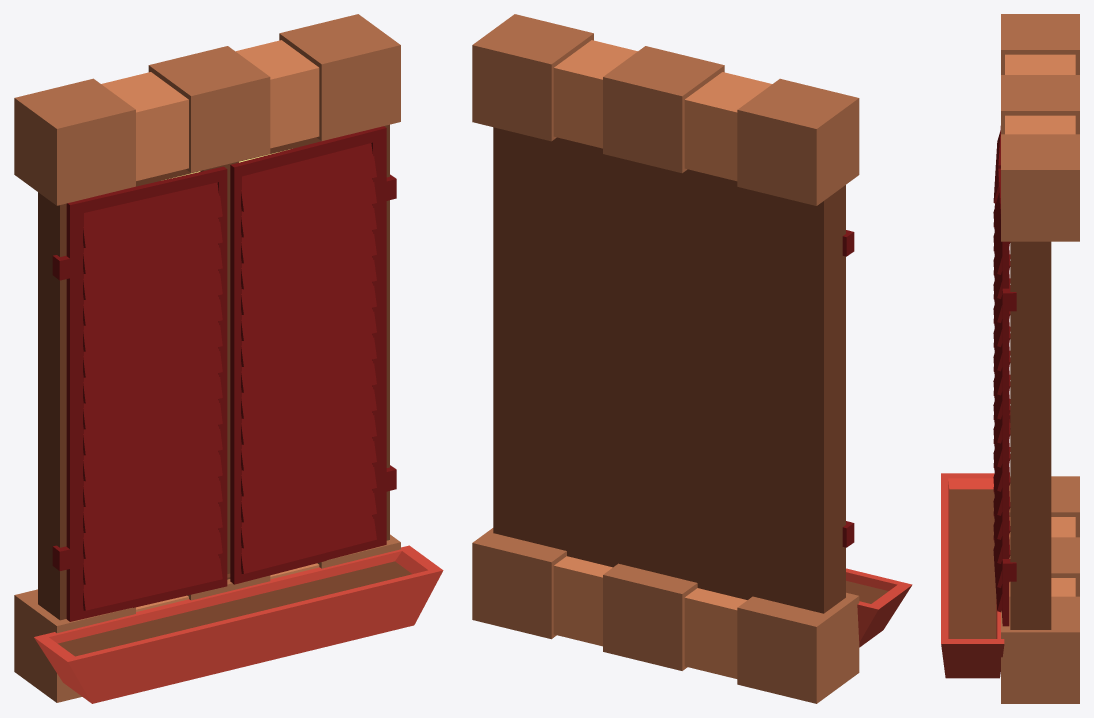
The model's file is village_pack_window_1.glb.
The picture shows the model from 3 angles, left to right: view 1: azimuth 30°, elevation 25°; view 2: azimuth 150°, elevation 25°; view 3: azimuth 270°, elevation 25°; orthographic projection. The views are drawn at different scales.
Visible parts, largest first — view 1: window 1_brick 1_0; view 2: window 1_brick 1_0; view 3: window 1_brick 1_0.
Part boxes in pixels (box(x1,y1,x2,y2)): window 1_brick 1_0: box(14, 14, 443, 703); window 1_brick 1_0: box(472, 14, 912, 703); window 1_brick 1_0: box(941, 14, 1079, 703).
Size of the model in its own units: 1.46 by 2.13 by 0.5013.
